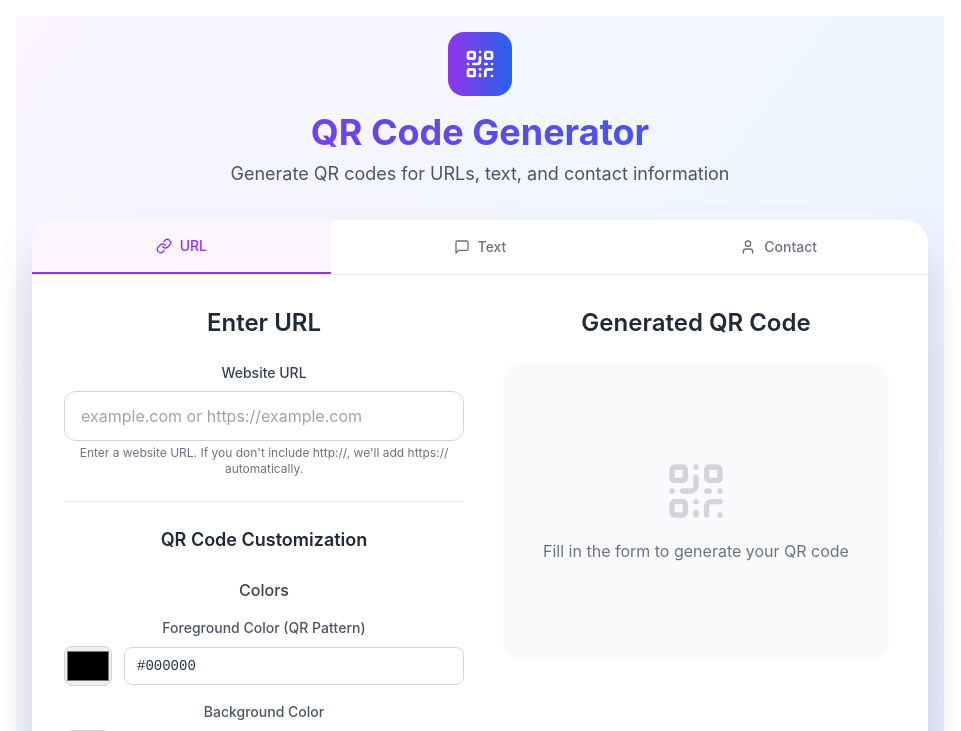
Test case: QRCodeGenerator Integration Tests › Text Tab › should switch to text tab
Step 1. Click the button "Text" → click(480, 247), box [331,220,629,274]
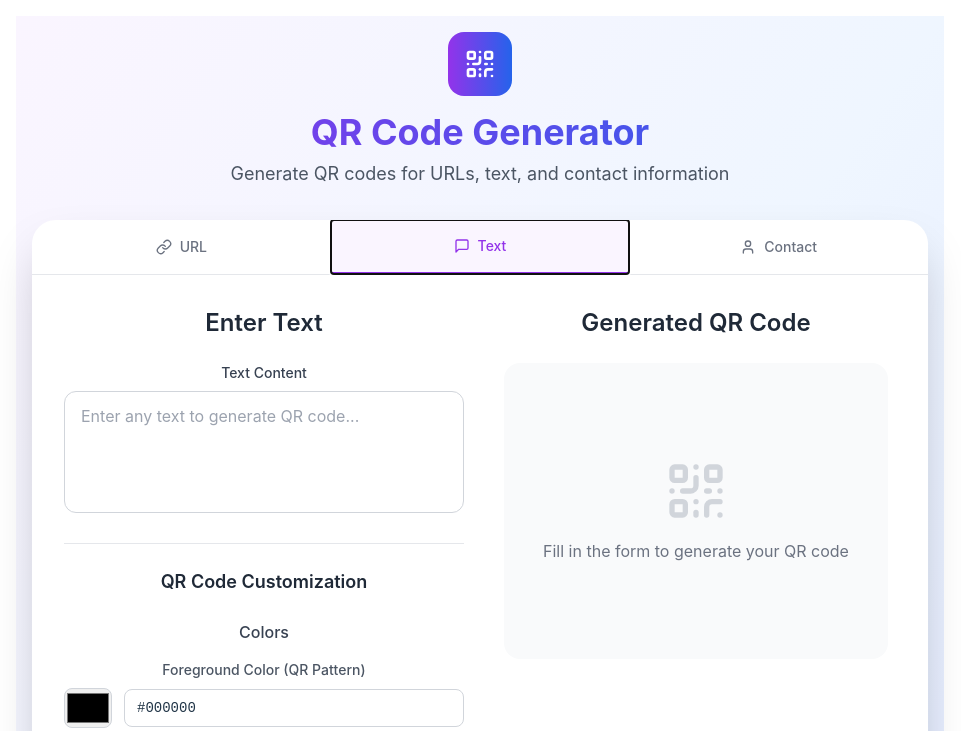
Expected: the text box with placeholder "Enter any text to generate QR code..." is shown, [64,391,464,513]
